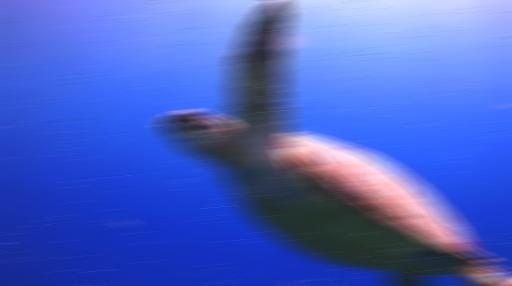Fish: (160, 0, 504, 285)
